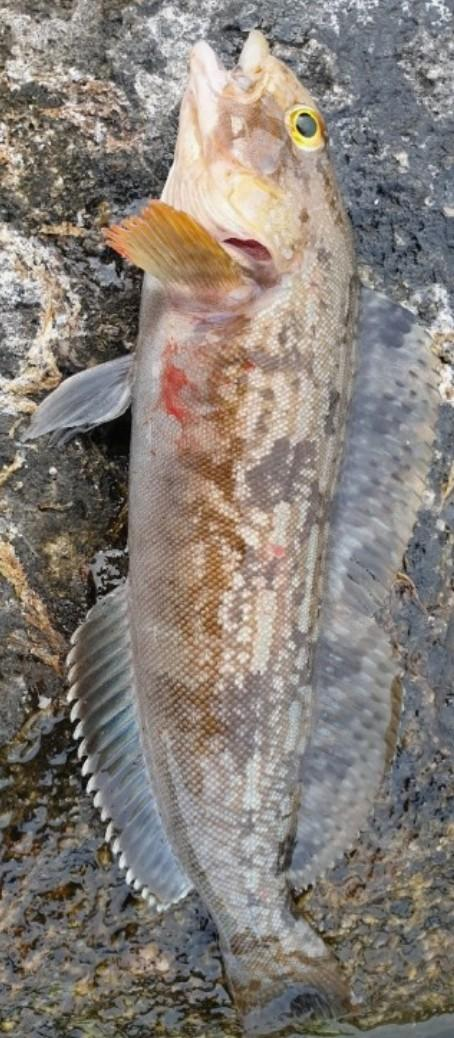fish: (30, 32, 438, 1033)
